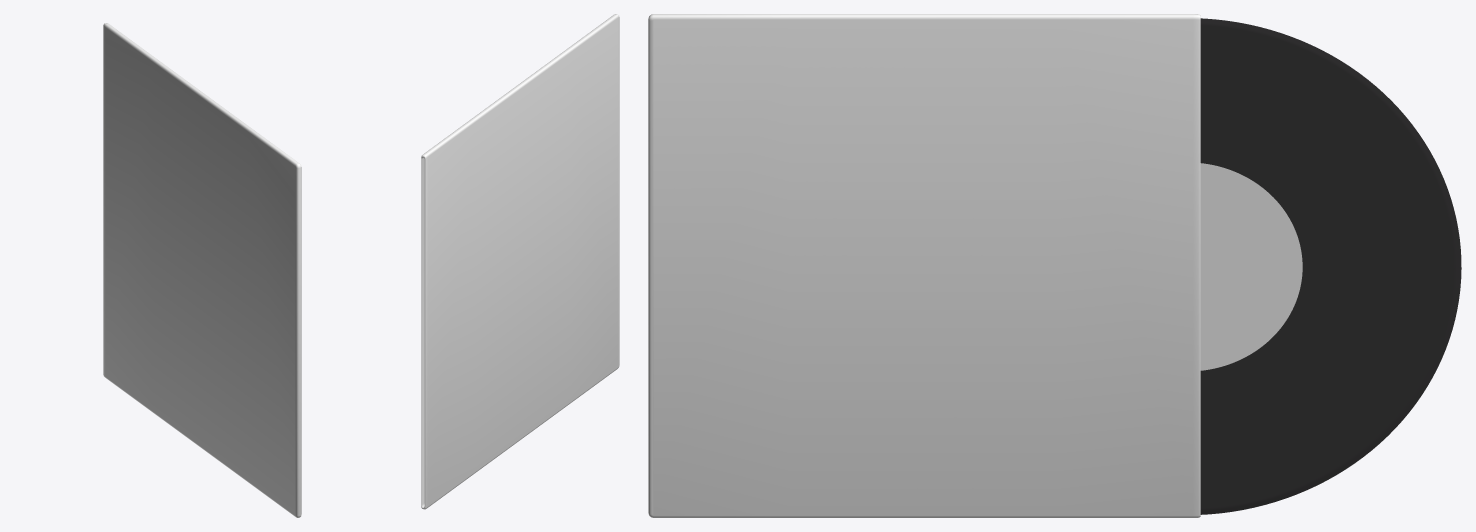
3 views of the same model, side by side, from view 1: azimuth 30°, elevation 25°; view 2: azimuth 150°, elevation 25°; view 3: azimuth 270°, elevation 25° (orthographic). The views are drawn at different scales.
Parts seen in each view (by area): view 1: models/inventory_items/music_kits/music_kit_killermike_01.vm; view 2: models/inventory_items/music_kits/music_kit_killermike_01.vm; view 3: models/inventory_items/music_kits/music_kit_killermike_01.vm.
Part boxes in pixels (x1,y1,x2,y2): models/inventory_items/music_kits/music_kit_killermike_01.vm: (103, 23, 301, 517); models/inventory_items/music_kits/music_kit_killermike_01.vm: (421, 14, 619, 509); models/inventory_items/music_kits/music_kit_killermike_01.vm: (648, 14, 1461, 517).
Size of the model in its own units: 0.00762 by 0.508 by 0.7449.
Materials: 3 (3 with a texture image).
